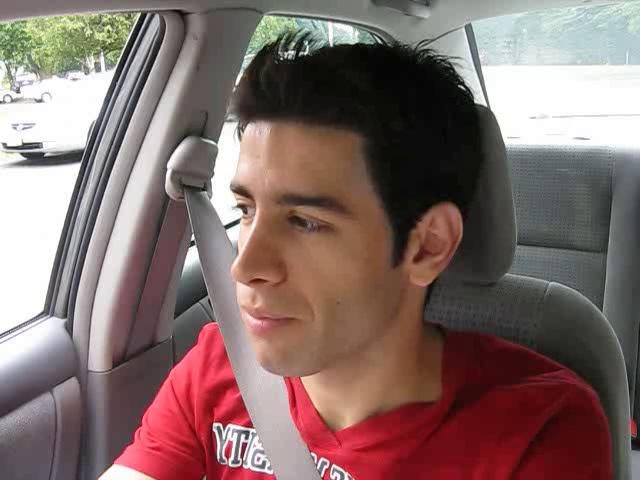no_yawn: (224, 296, 311, 347)
open_eyeL: (221, 188, 262, 227)
open_eyeR: (271, 197, 351, 246)
